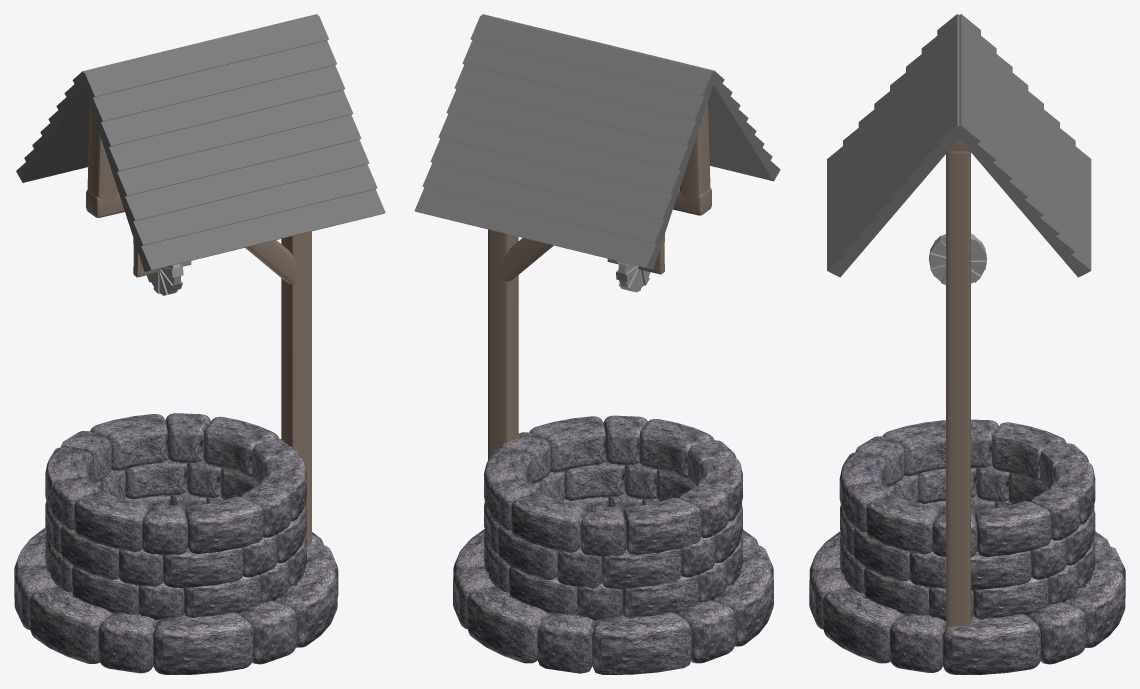
Rendered from Poço.fbx.
The picture shows the model from 3 angles, left to right: view 1: azimuth 30°, elevation 25°; view 2: azimuth 150°, elevation 25°; view 3: azimuth 270°, elevation 25°; orthographic projection. The views are drawn at different scales.
Visible parts, largest first — view 1: polySurface66; view 2: polySurface66; view 3: polySurface66.
Boxes of the visible parts, x1,y1,x2,y2 form: polySurface66: (14,14,385,674); polySurface66: (414,14,780,674); polySurface66: (809,14,1125,674).
Bounding box in the file's own units: 25.1 × 48.34 × 25.08.
Materials: 4 (1 with a texture image).
